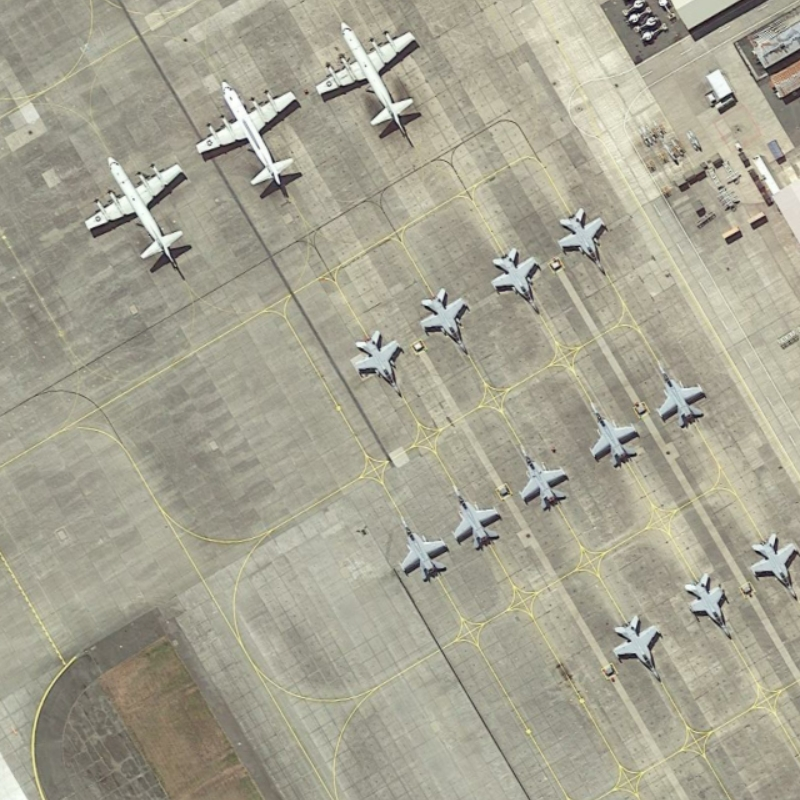A16: (604, 605, 674, 690), (677, 562, 743, 648), (644, 355, 713, 436), (552, 202, 615, 285), (343, 328, 411, 404), (513, 438, 576, 518), (415, 282, 479, 360), (394, 504, 452, 590), (486, 241, 552, 316), (581, 397, 644, 473), (444, 473, 503, 554), (744, 529, 800, 611)
A9: (82, 145, 189, 270), (192, 72, 301, 194), (314, 17, 419, 138)
